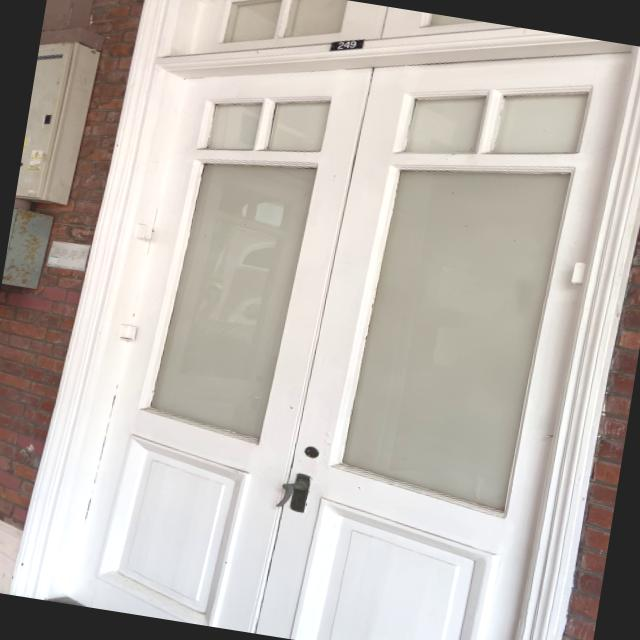room249: (324, 31, 366, 60)
